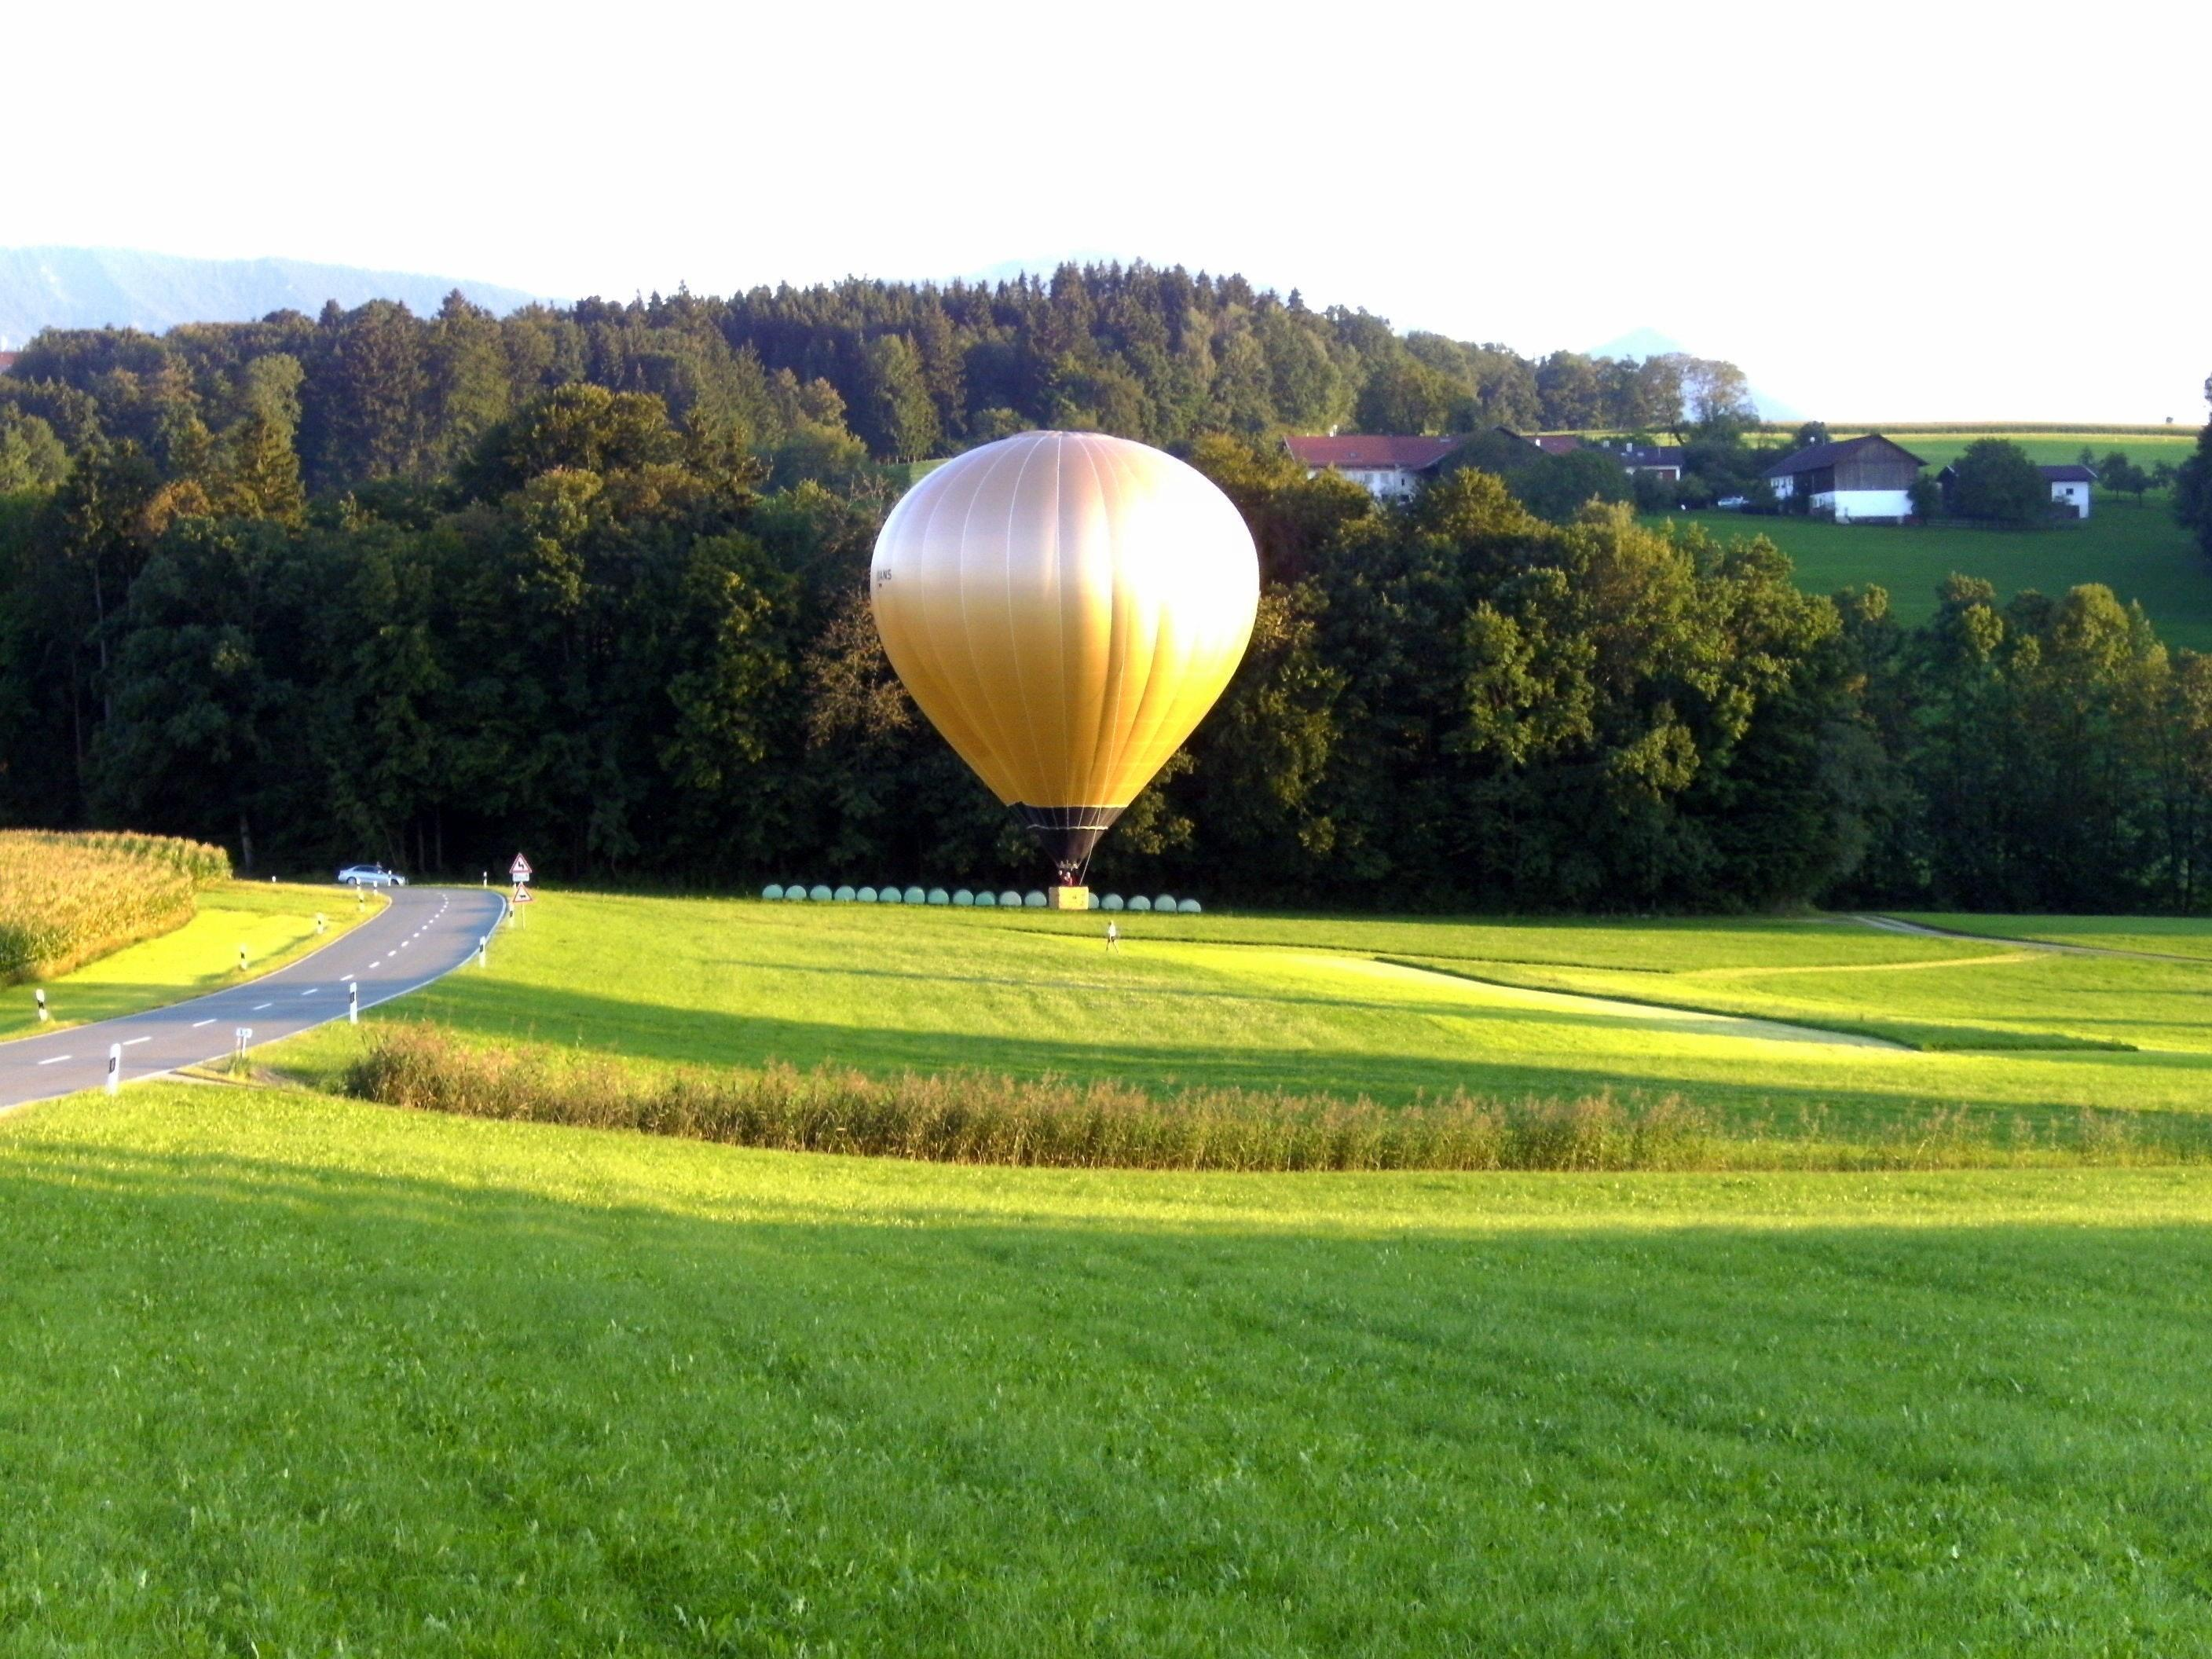hot air ballon: (871, 429, 1261, 910)
